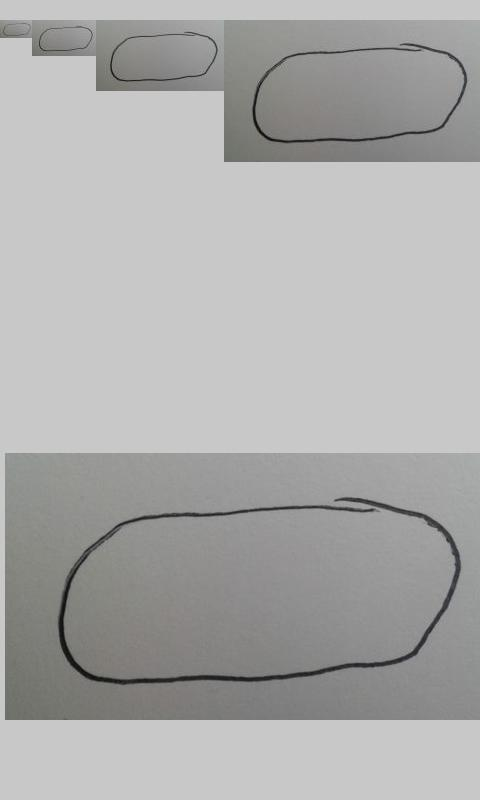chip: (58, 496, 461, 687), (252, 42, 468, 144), (110, 31, 219, 82), (38, 26, 94, 52), (2, 22, 32, 36)
